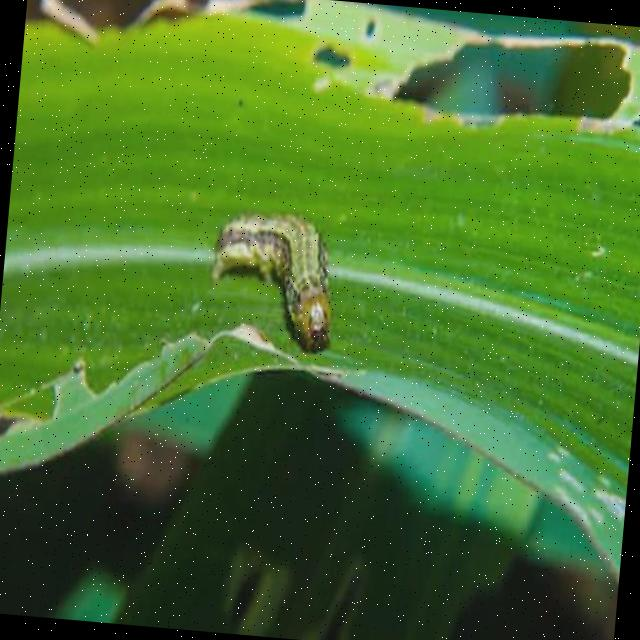worm: (205, 205, 346, 357)
